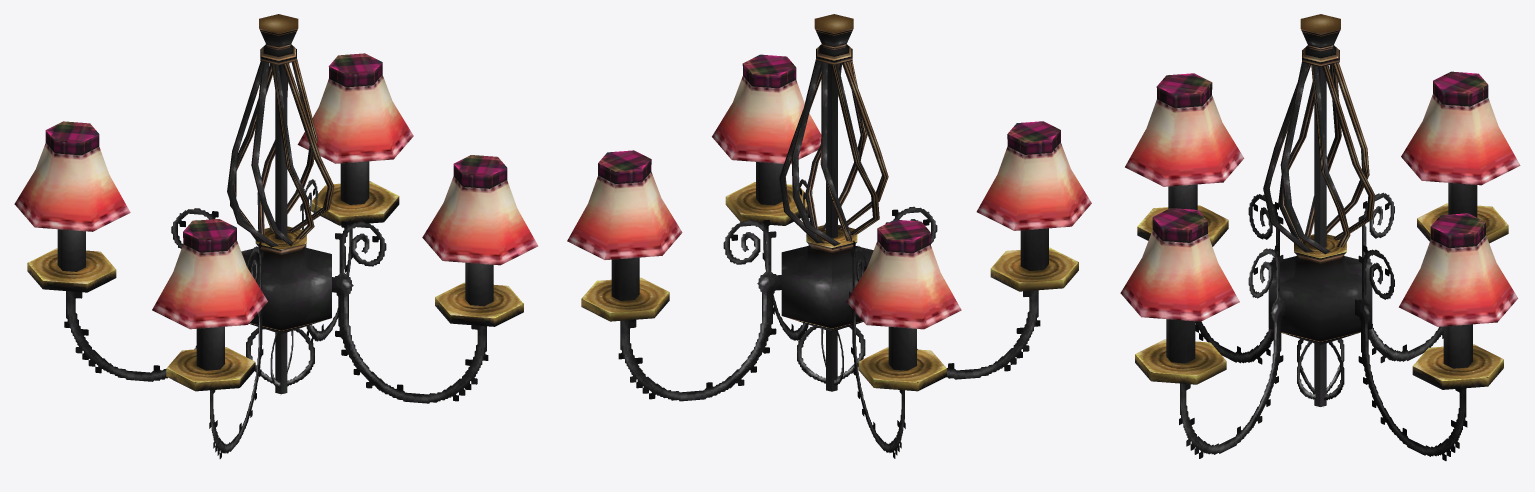
The model's file is furni_0200301_01.FBX.
3 renders of one model, left to right at view 1: azimuth 30°, elevation 25°; view 2: azimuth 150°, elevation 25°; view 3: azimuth 270°, elevation 25°, orthographic. The views are drawn at different scales.
Parts seen in each view (by area): view 1: furni_0200301_01; view 2: furni_0200301_01; view 3: furni_0200301_01.
Boxes of the visible parts, x1=… form: furni_0200301_01: x1=14, y1=14, x2=538, y2=458; furni_0200301_01: x1=567, y1=14, x2=1091, y2=458; furni_0200301_01: x1=1120, y1=14, x2=1520, y2=460.
Bounding box in the file's own units: 86.17 × 80.62 × 76.73.
